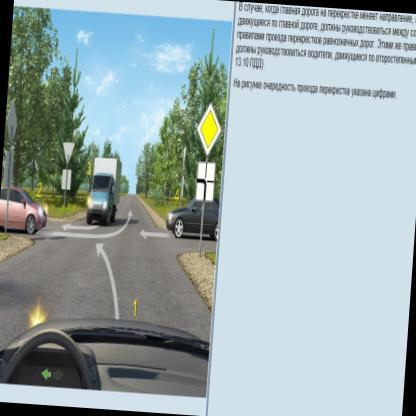road_sign: (198, 103, 222, 155), (196, 161, 215, 201)
